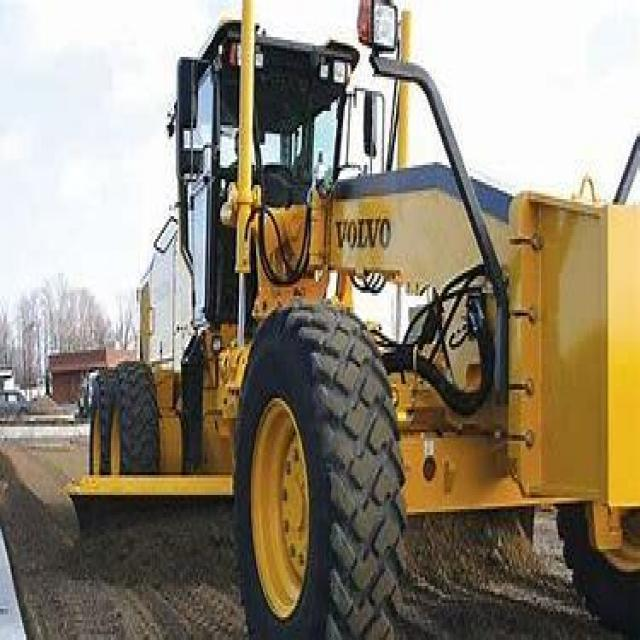Grader: (71, 20, 636, 637)
